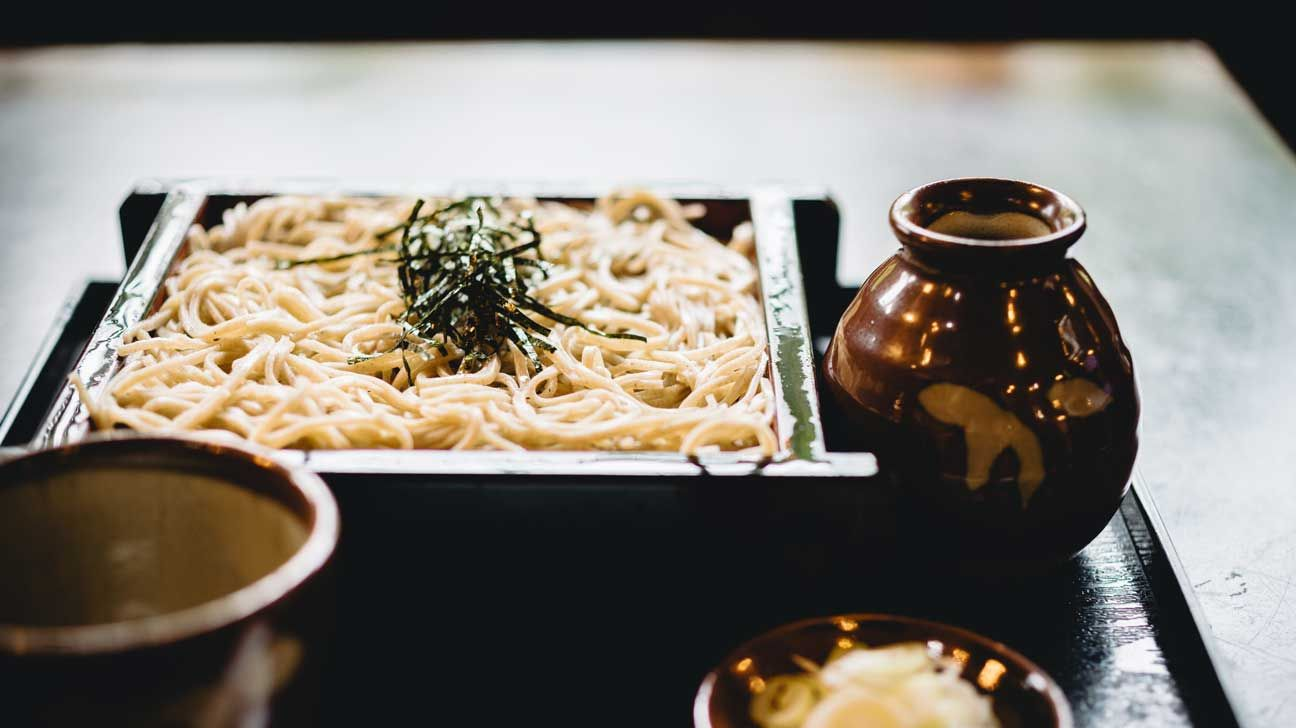Soba: (158, 185, 785, 461)
